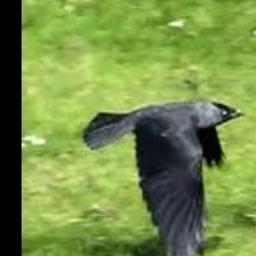Crow: (82, 98, 244, 256)
